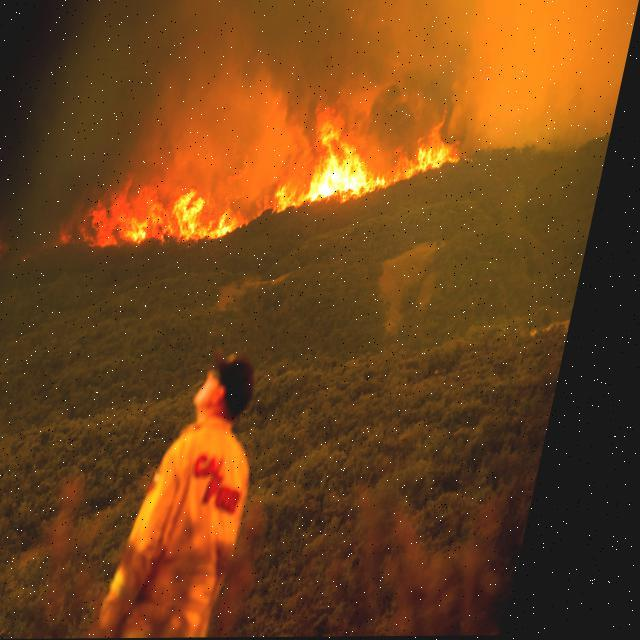Fire: (92, 120, 480, 254)
